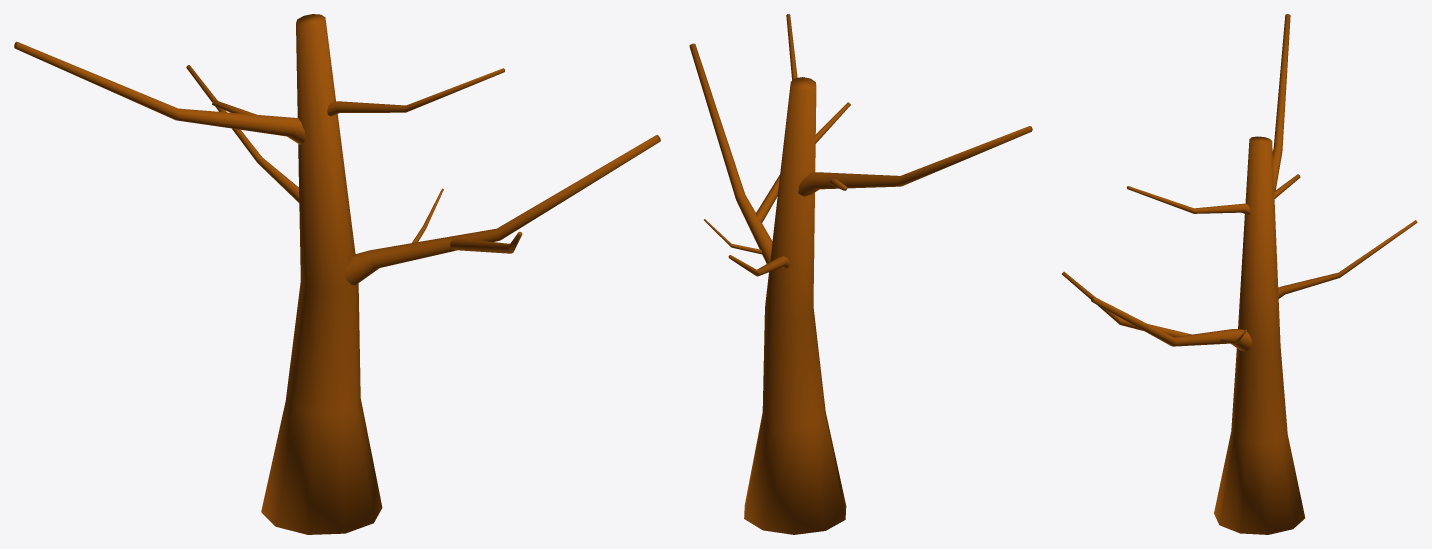
File: shortNoLeaves.obj
3 views of the same model, side by side, from view 1: azimuth 30°, elevation 25°; view 2: azimuth 150°, elevation 25°; view 3: azimuth 270°, elevation 25° (orthographic). The views are drawn at different scales.
Size of the model in its own units: 3.27 by 3.17 by 2.58.
